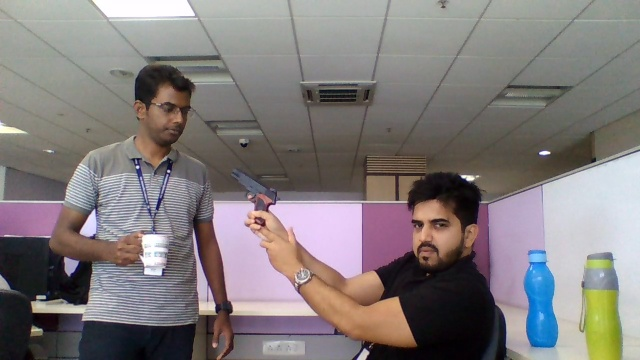gun: (229, 169, 278, 209)
